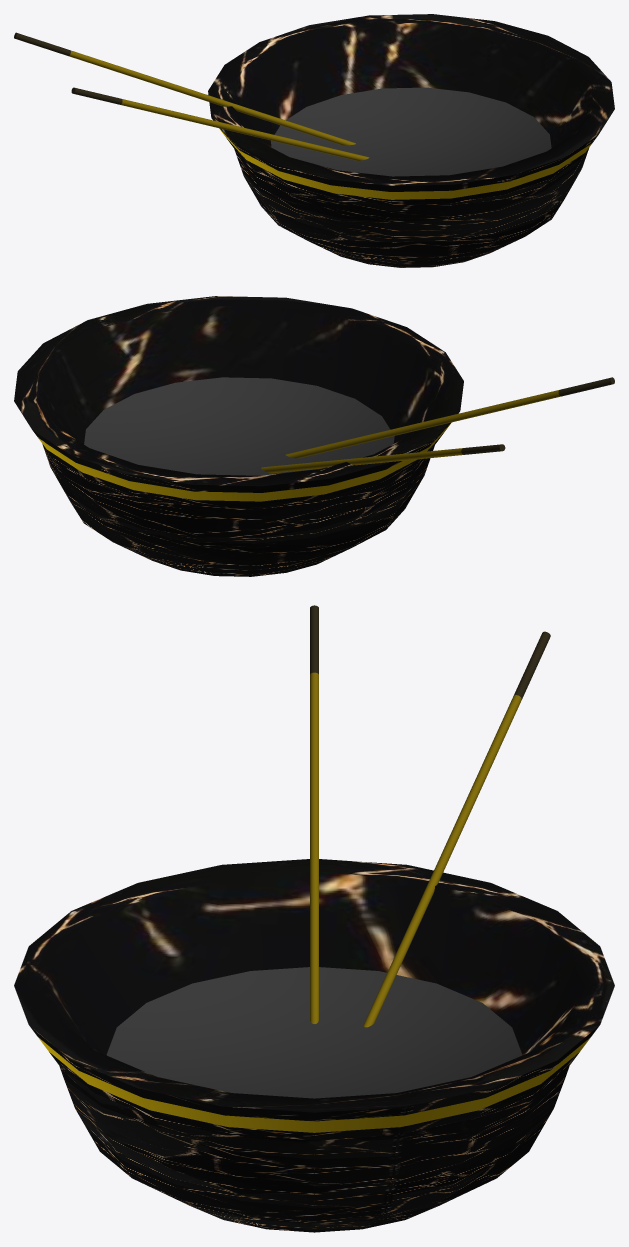
The model's file is Incense_bowl (1).fbx.
3 views of the same model, one above another, from view 1: azimuth 30°, elevation 25°; view 2: azimuth 150°, elevation 25°; view 3: azimuth 270°, elevation 25° (orthographic). The views are drawn at different scales.
Parts seen in each view (by area): view 1: incense_bowl, incense_2, incense; view 2: incense_bowl, incense, incense_2; view 3: incense_bowl, incense_2, incense.
Part boxes in pixels (box(x1,y1,x2,y2)): incense_bowl: box(208, 14, 614, 267); incense_2: box(14, 32, 355, 145); incense: box(71, 87, 369, 160); incense_bowl: box(14, 296, 463, 576); incense: box(286, 377, 614, 458); incense_2: box(261, 444, 505, 473); incense_bowl: box(14, 859, 614, 1232); incense_2: box(363, 631, 550, 1027); incense: box(310, 605, 318, 1023).
Size of the model in its own units: 11.63 by 4.72 by 7.98.
Materials: 5 (1 with a texture image).
